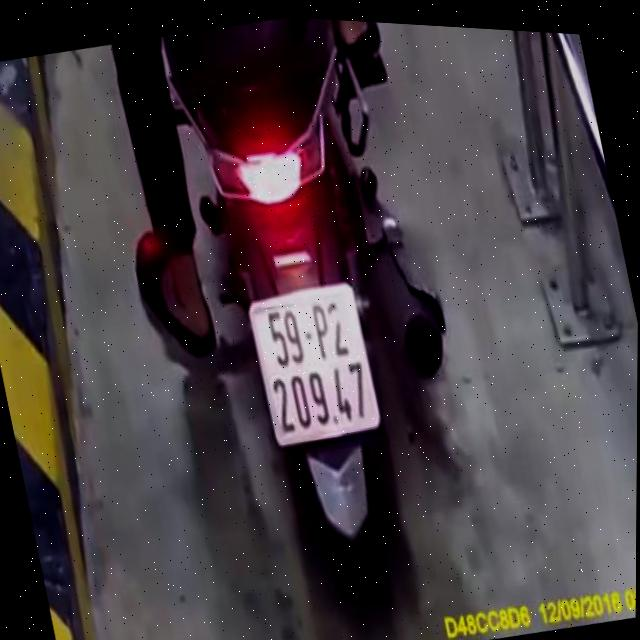motorcycle: (152, 9, 505, 639)
plate: (240, 268, 388, 458)
